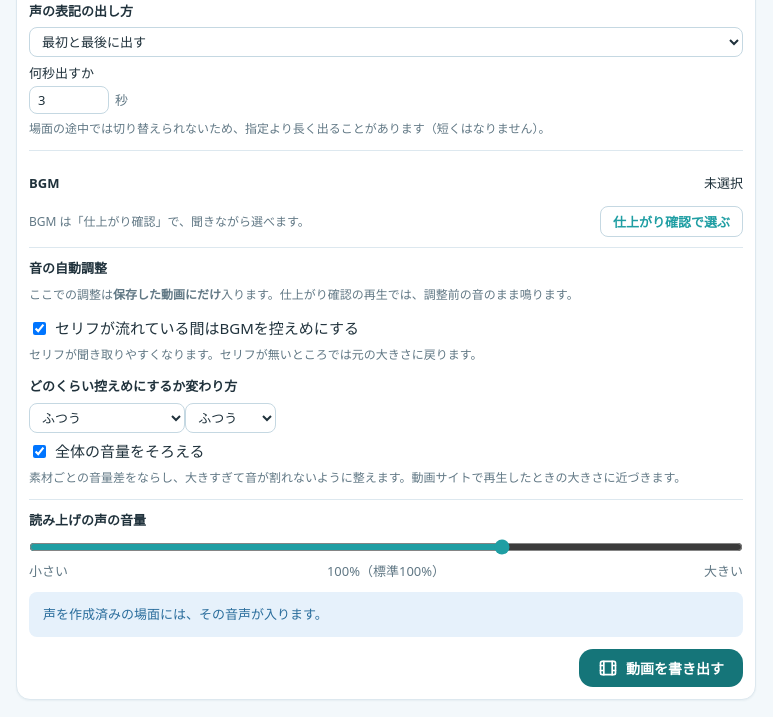
it: ExportScreen 書き出せない項目があるときは保存させない（#547 P2-5 後続） › 始めている最中は押せない（走っている回の表示を潰さない）
(page scrolled)
Click the button "動画を書き出す" at (661, 668), box top-left (579, 649), bottom-right (743, 687)
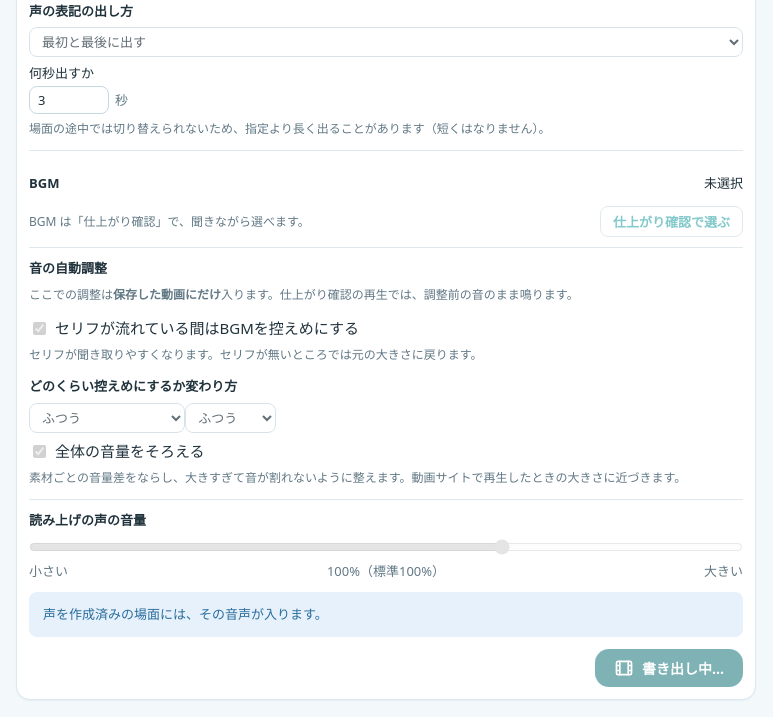
Expected: the button "書き出し中…" is disabled, top-left (595, 649), bottom-right (743, 687)
